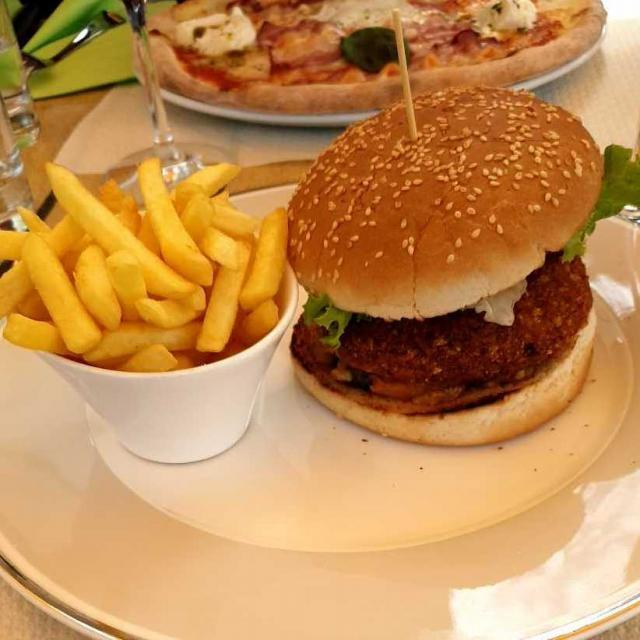chips-french-fries: (2, 166, 285, 368)
hamburger: (290, 92, 609, 444)
